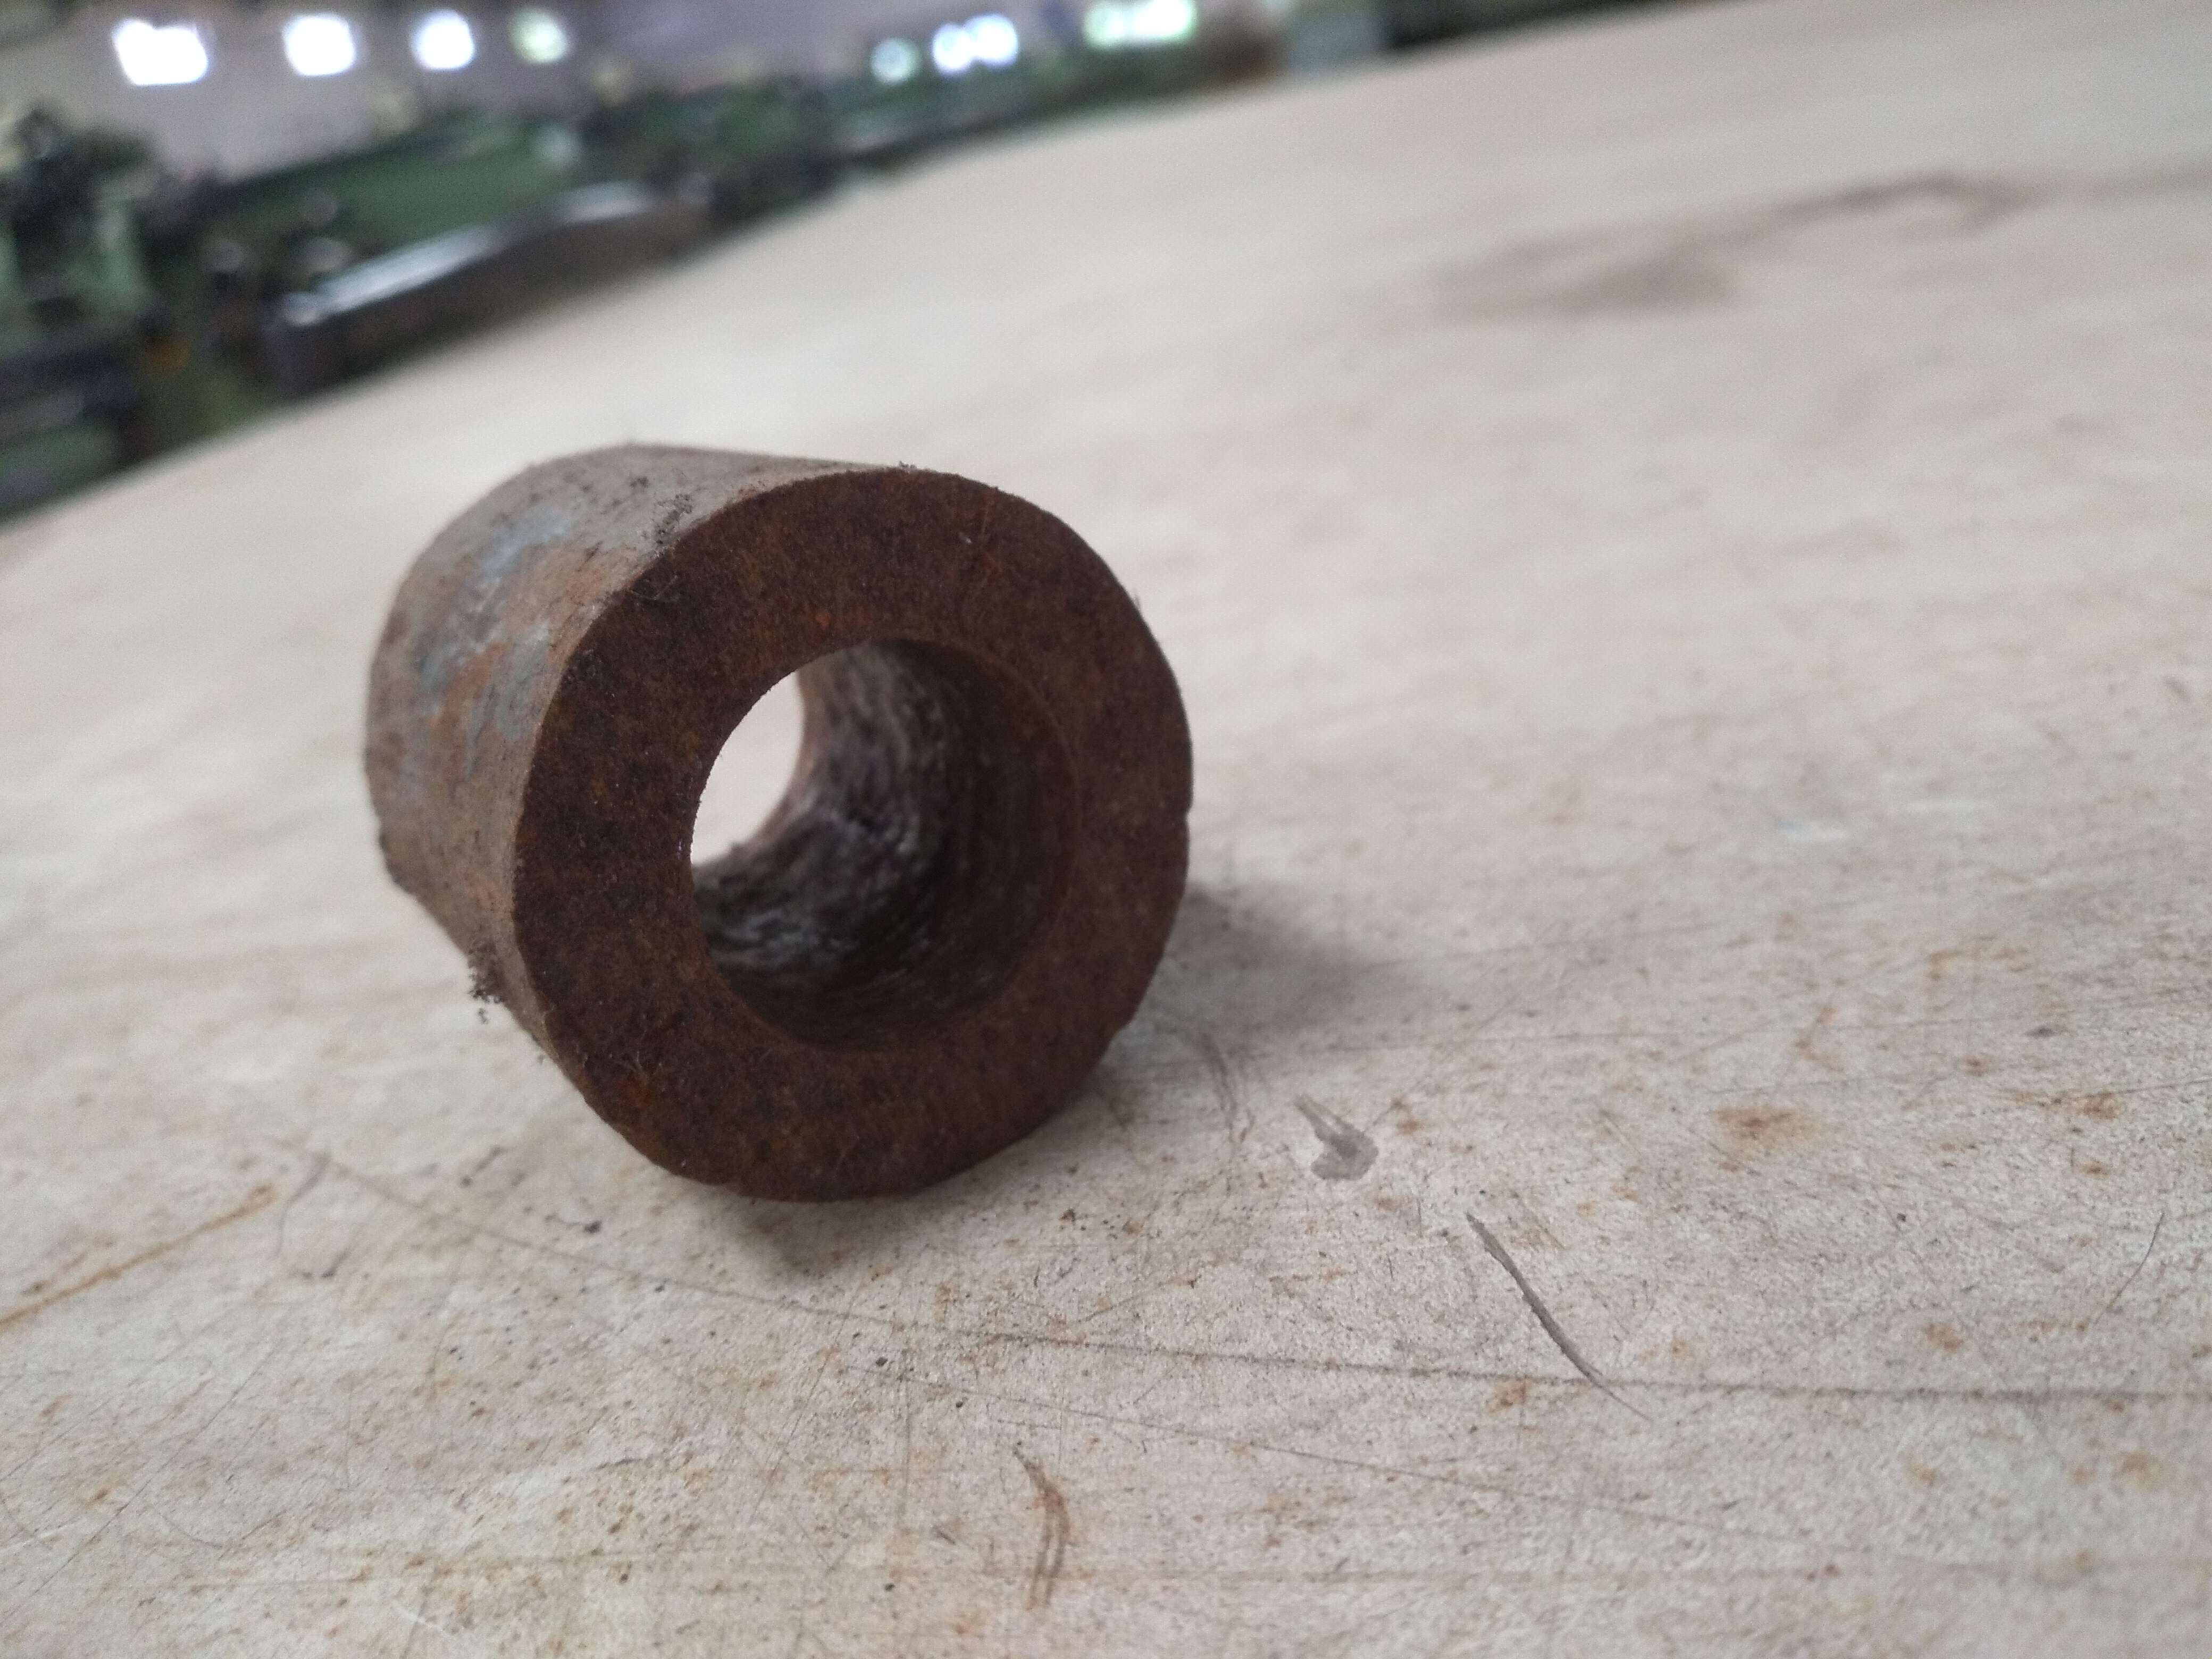No thread: (657, 598, 1125, 1108)
